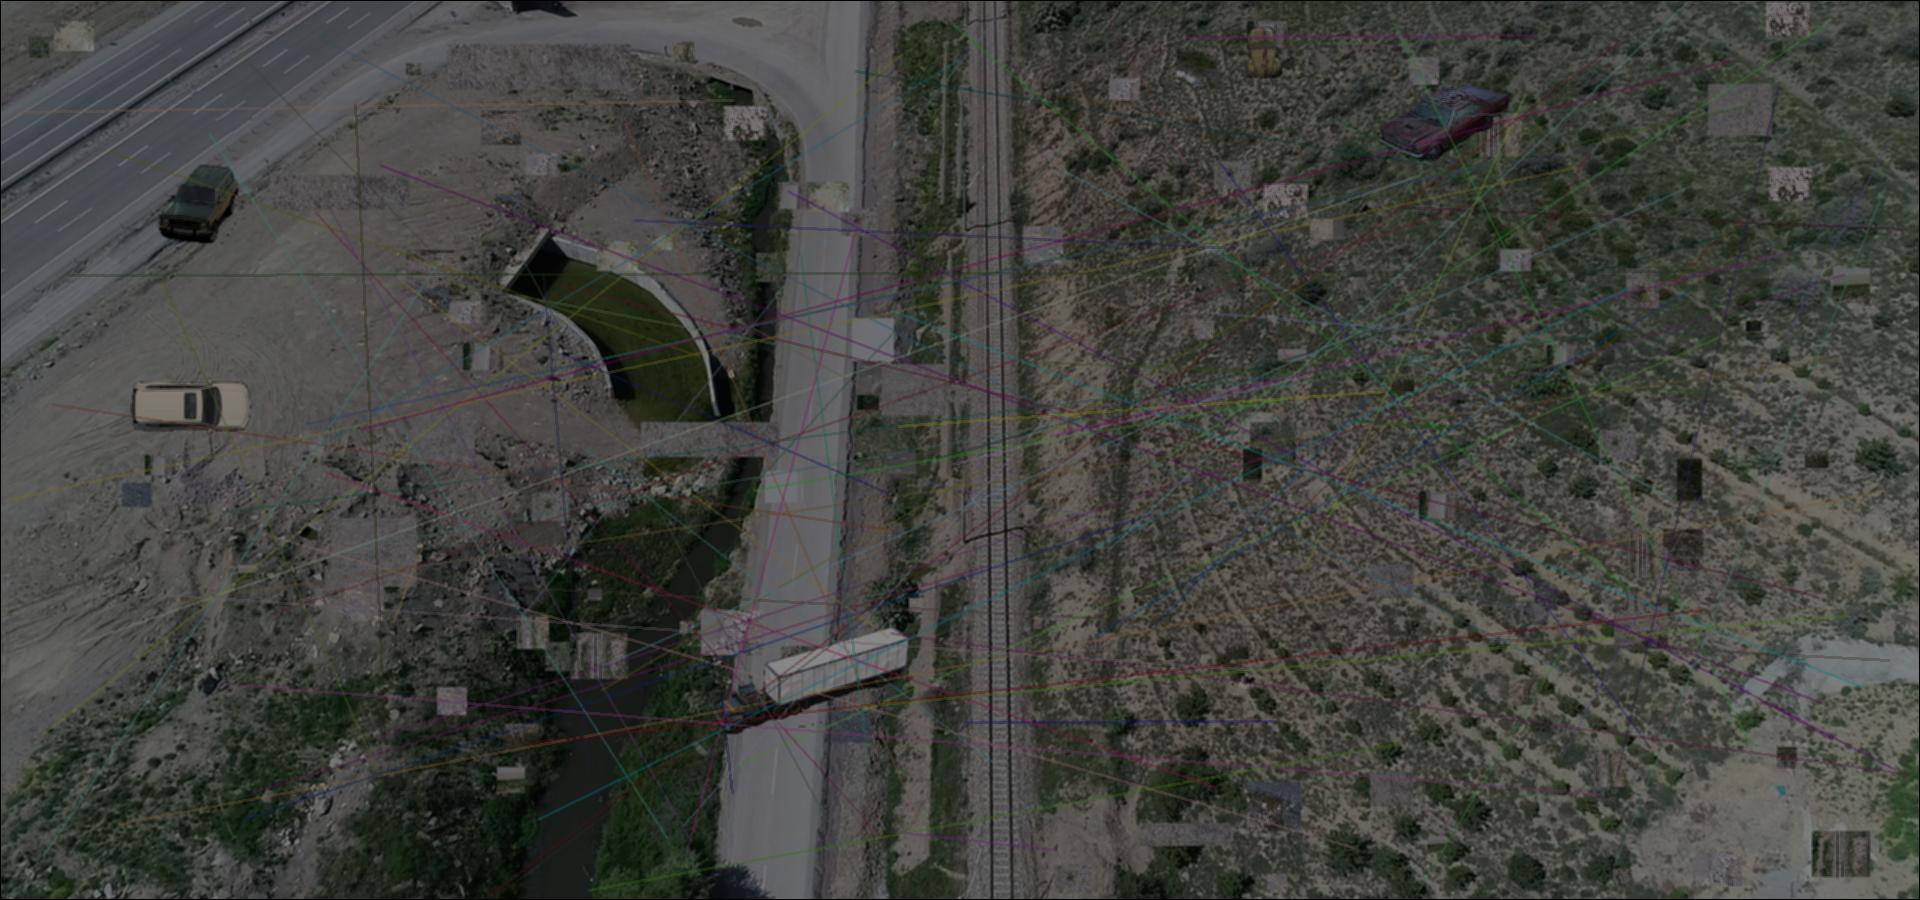arac: (711, 623, 920, 733), (1379, 80, 1510, 163), (129, 376, 256, 437), (157, 164, 238, 244), (1247, 27, 1283, 78)
